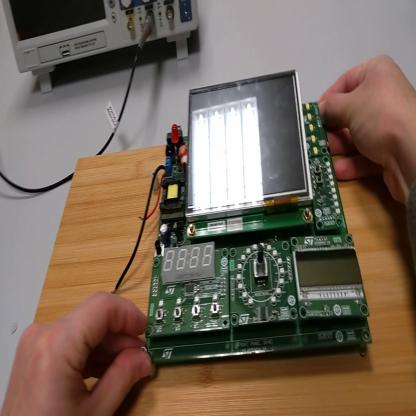hand: (3, 291, 157, 415), (320, 53, 416, 208)
low voltage board: (113, 72, 373, 363)
oscilloscope: (3, 1, 198, 96)
working area: (35, 147, 416, 415)
